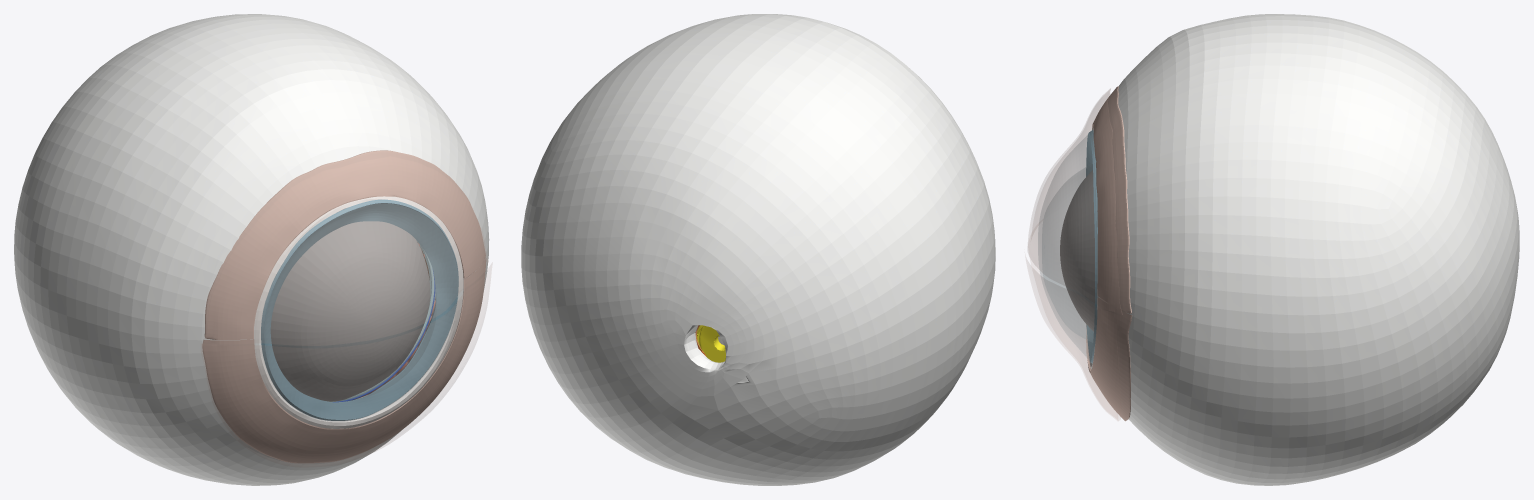
The model's file is 3DPX-020998.glb.
3 renders of one model, left to right at view 1: azimuth 30°, elevation 25°; view 2: azimuth 150°, elevation 25°; view 3: azimuth 270°, elevation 25°, orthographic.
Visible parts, largest first — view 1: VH_M_sclera_L, VH_M_palpebral_conjunctiva_of_lower_eyelid_L, VH_M_cornea_L, VH_M_aqueous_humor_L, VH_M_bulbar_conjunctiva_L, VH_M_ciliary_body_L; view 2: VH_M_sclera_L, VH_M_iris_L; view 3: VH_M_sclera_L, VH_M_palpebral_conjunctiva_of_lower_eyelid_L, VH_M_bulbar_conjunctiva_L, VH_M_cornea_L, VH_M_aqueous_humor_L.
Boxes of the visible parts, box(x1,y1,x2,y2) form: VH_M_sclera_L: box(14, 14, 489, 485); VH_M_palpebral_conjunctiva_of_lower_eyelid_L: box(201, 157, 491, 466); VH_M_cornea_L: box(261, 201, 458, 420); VH_M_aqueous_humor_L: box(261, 199, 458, 420); VH_M_bulbar_conjunctiva_L: box(202, 150, 486, 463); VH_M_ciliary_body_L: box(326, 240, 435, 402); VH_M_sclera_L: box(521, 14, 995, 485); VH_M_iris_L: box(697, 325, 725, 362); VH_M_sclera_L: box(1089, 14, 1519, 485); VH_M_palpebral_conjunctiva_of_lower_eyelid_L: box(1026, 89, 1121, 420); VH_M_bulbar_conjunctiva_L: box(1086, 86, 1132, 421); VH_M_cornea_L: box(1038, 131, 1096, 362); VH_M_aqueous_humor_L: box(1060, 130, 1097, 363).
Size of the model in its own units: 0.0245 by 0.0244 by 0.0257.
6 materials, 6 textured.
